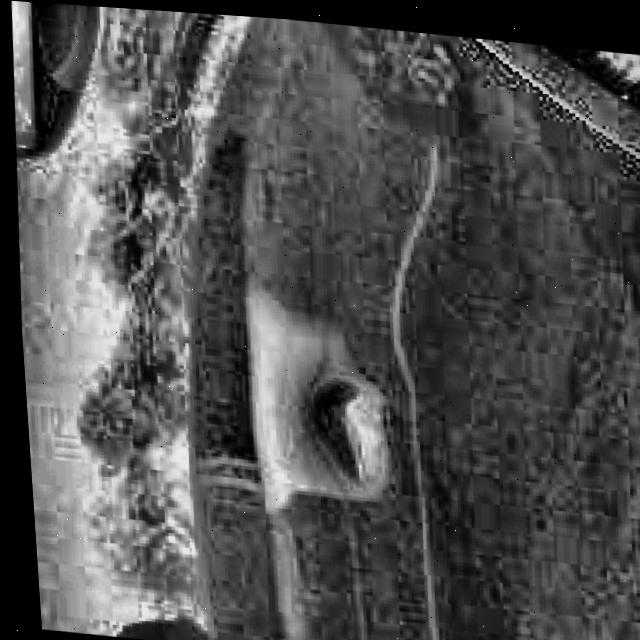door_dent: (300, 373, 402, 491)
